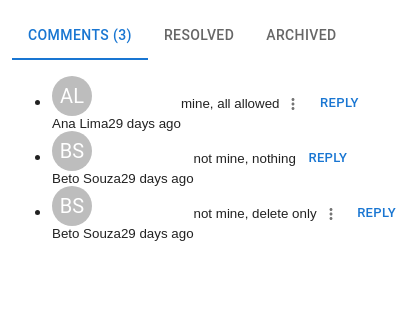
Test: <CommentsPanel /> › actions come from the BACKEND flags — authorship is irrelevant
Expected: the text "mine, all allowed" is shown, [181,96,279,111]
# All flags true → menu with Edit + Delete.
Click the 1st button named "Comment actions" at (294, 104), box [280,90,308,118]
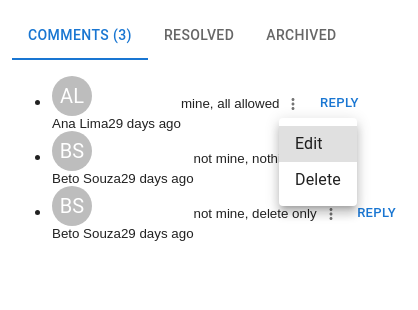
Expected: the menu item "Edit" is shown, [279,126,357,162]
Expected: the menu item "Delete" is shown, [295,170,341,189]
Press Escape
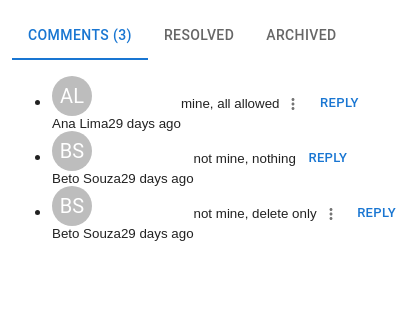
Expected: the menu item "Edit" is gone
Click the 2nd button named "Comment actions" at (330, 214), box [316,200,344,228]
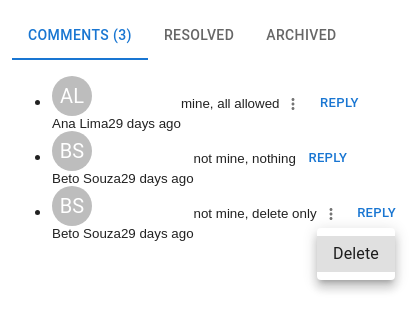
Expected: the menu item "Edit" is not shown
Expected: the menu item "Delete" is shown, [317,236,395,272]
